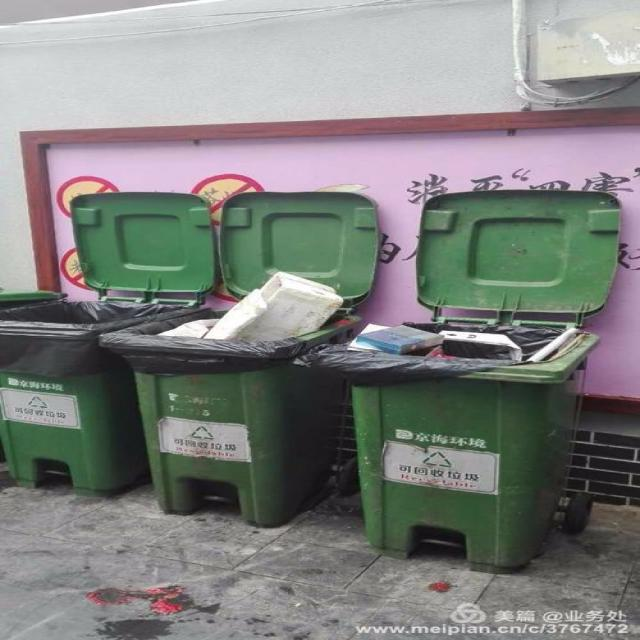garbage_bin: (0, 297, 207, 497)
overflow: (294, 316, 596, 574), (99, 270, 358, 525)
